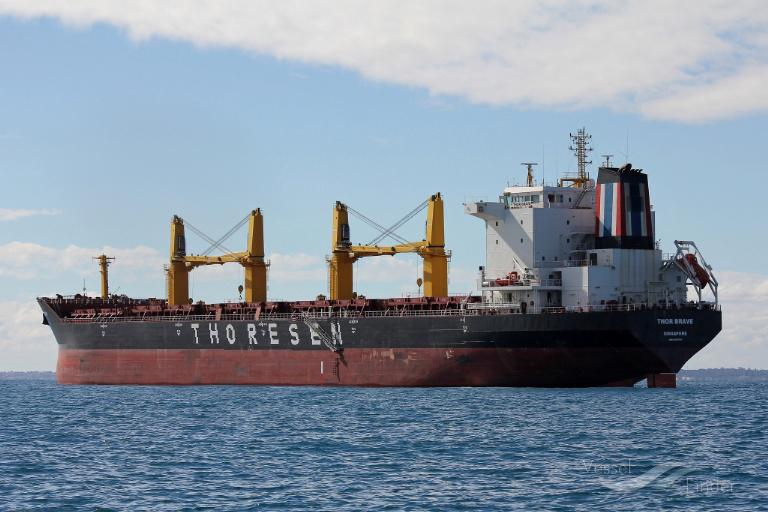OCR: (186, 318, 344, 358)
